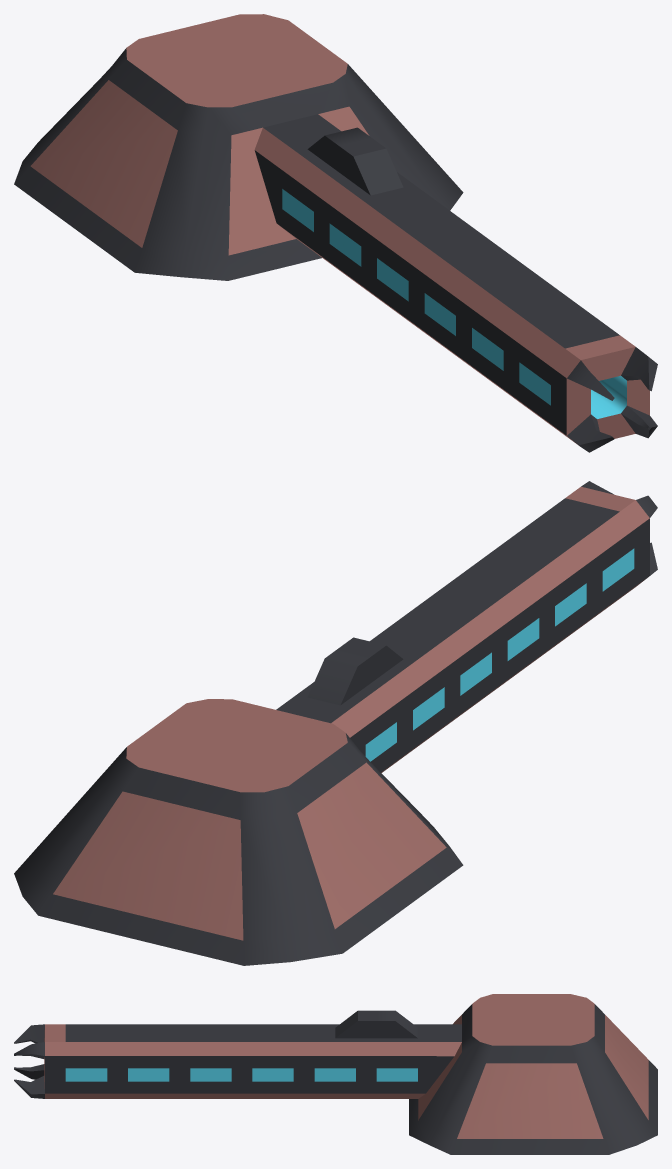
Rendered from UntexturedRailGunTurret.fbx.
3 renders of one model, top to bottom at view 1: azimuth 30°, elevation 25°; view 2: azimuth 150°, elevation 25°; view 3: azimuth 270°, elevation 25°, orthographic. The views are drawn at different scales.
Parts seen in each view (by area): view 1: pCube30; view 2: pCube30; view 3: pCube30.
Boxes of the visible parts, bbox=[...] form: pCube30: bbox=[14, 14, 657, 452]; pCube30: bbox=[14, 481, 657, 965]; pCube30: bbox=[14, 994, 657, 1154].
Size of the model in its own units: 436 by 167 by 1129.
